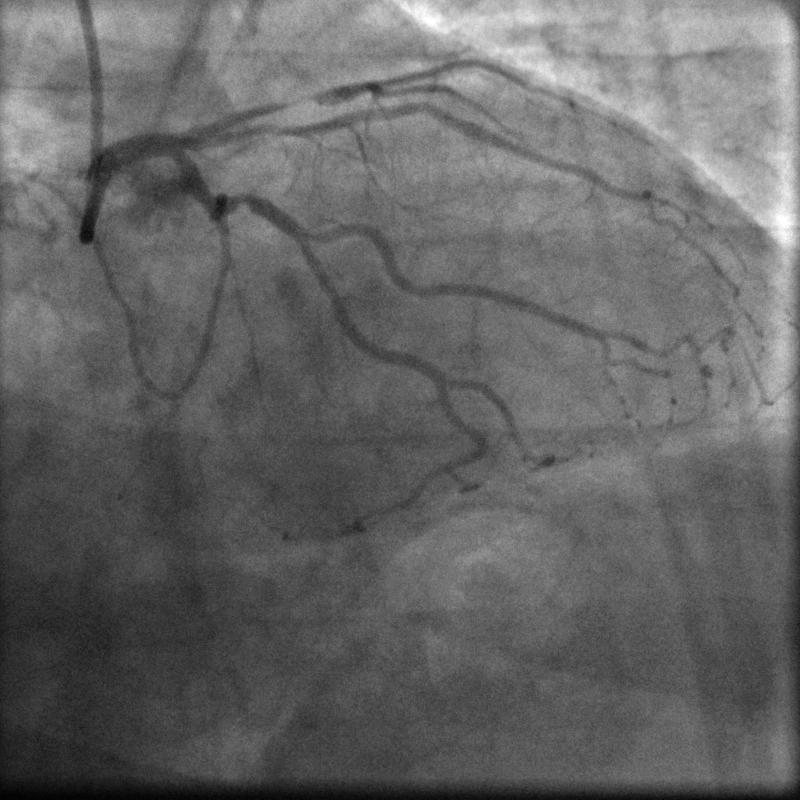Stenosis: (232, 189, 256, 213)
